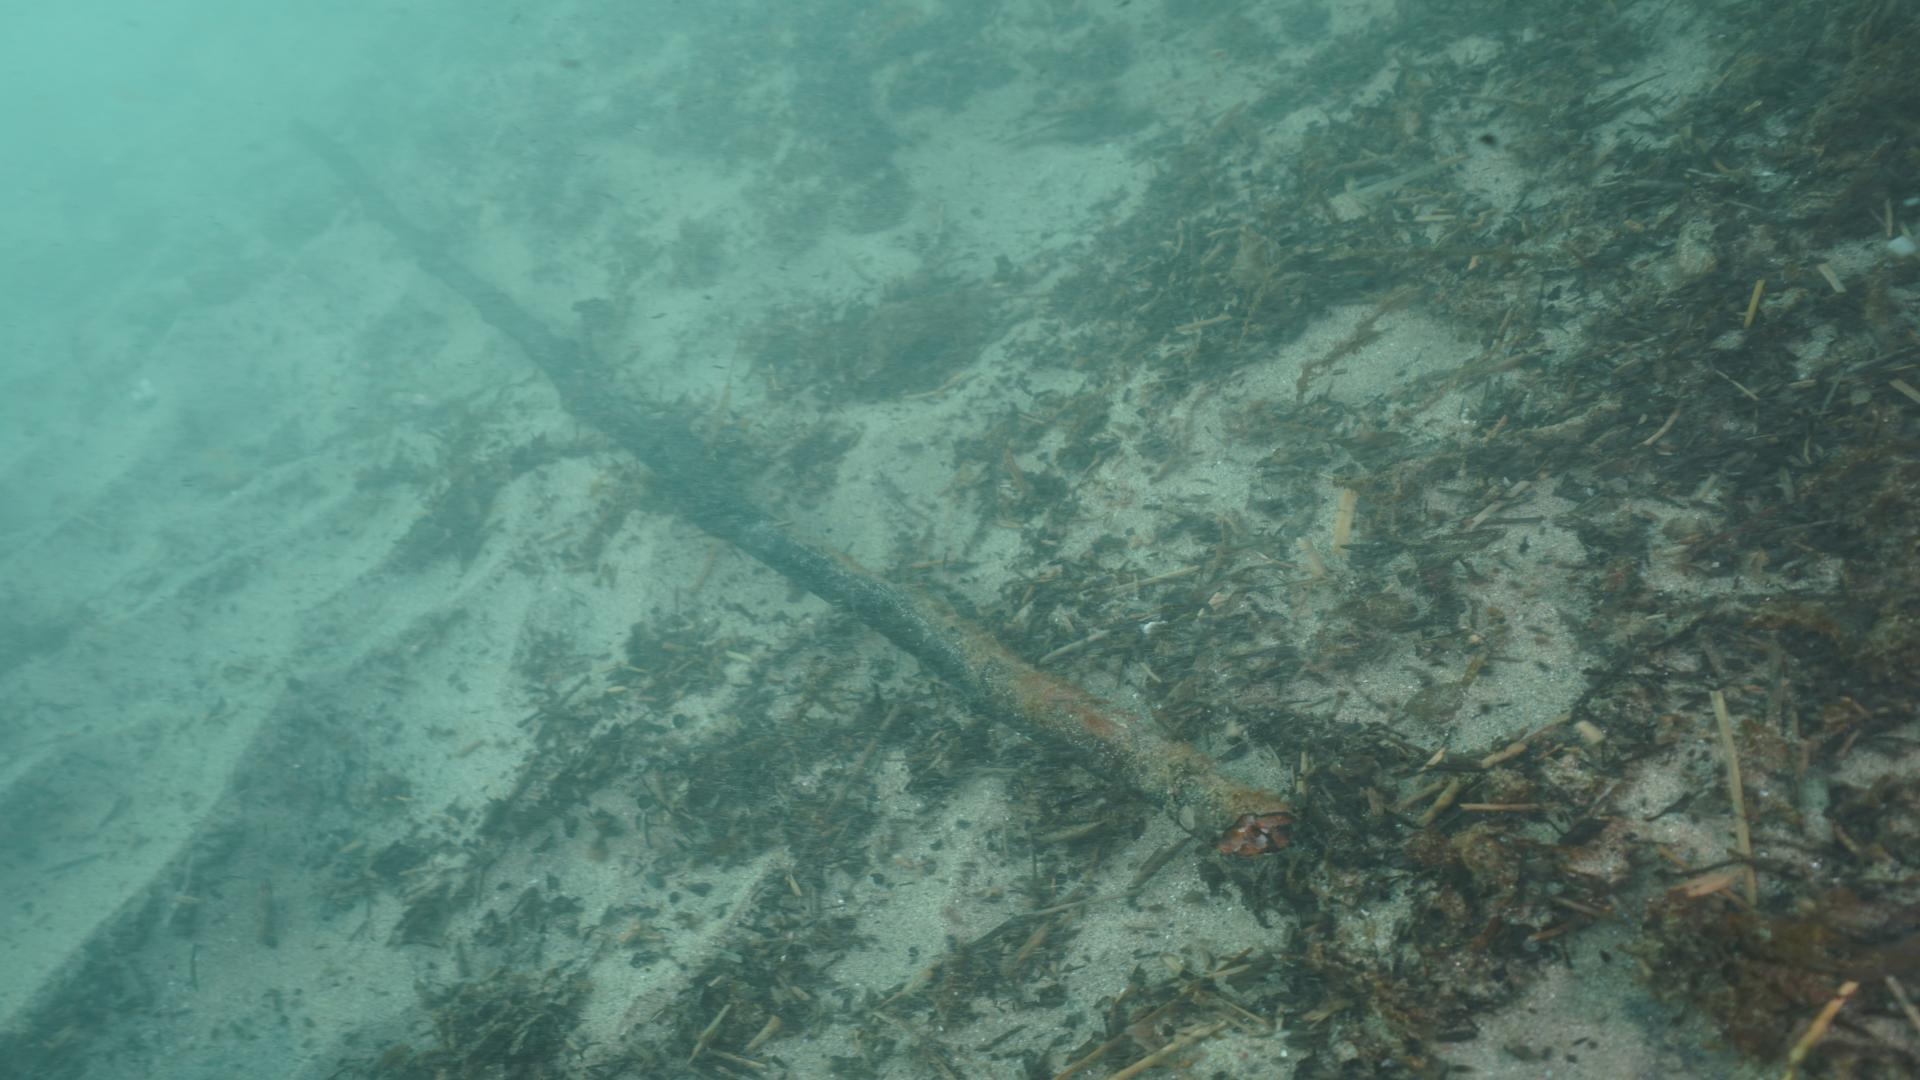wood: (286, 105, 1286, 848)
